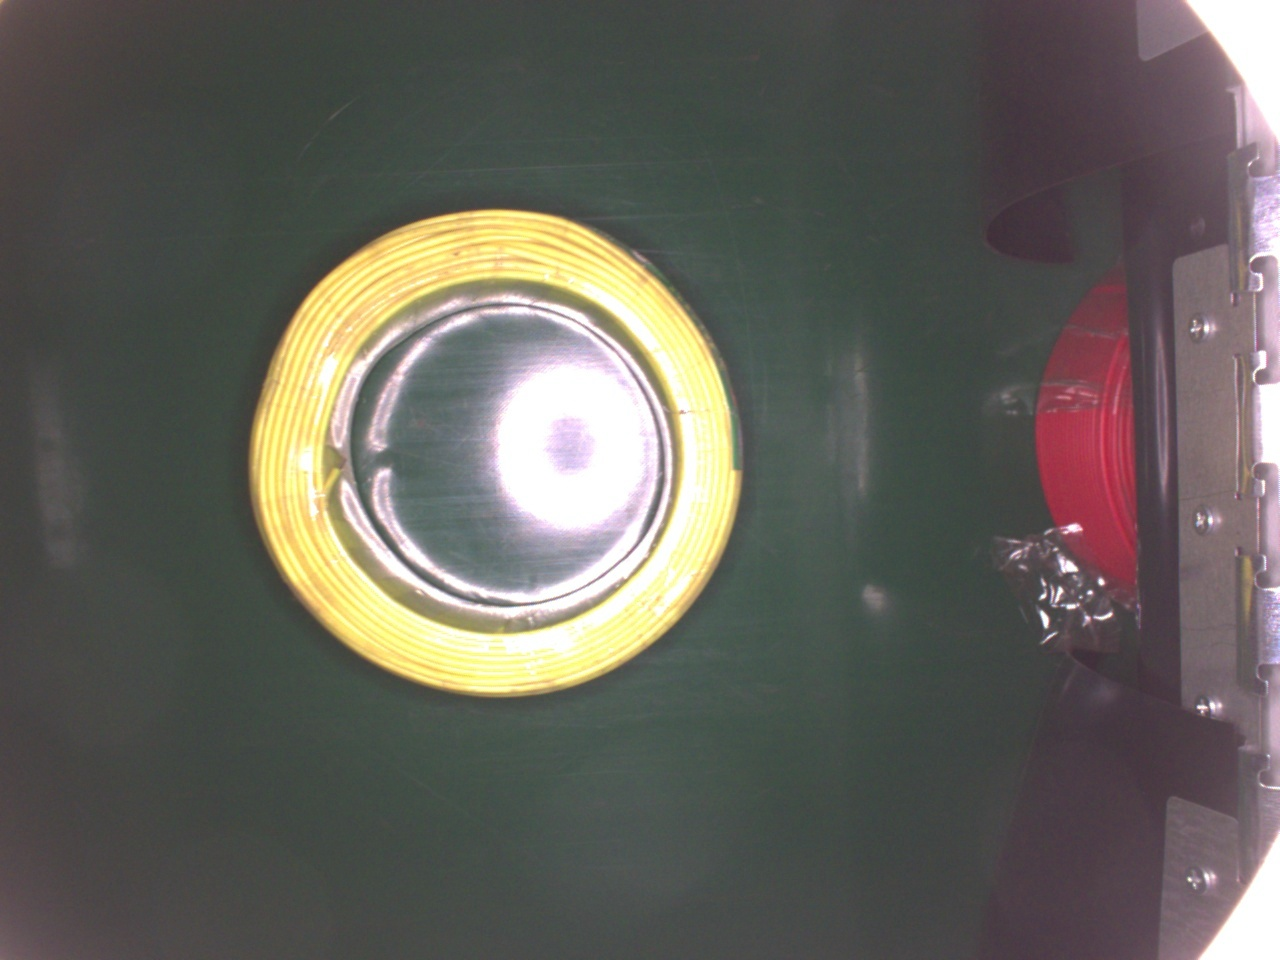red: (1036, 262, 1135, 600)
yellow: (250, 206, 743, 698)
